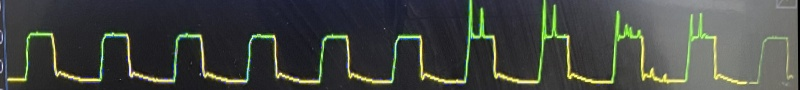hydrop_pressure: (454, 0, 749, 90)
normal_pressure: (10, 25, 443, 90)
